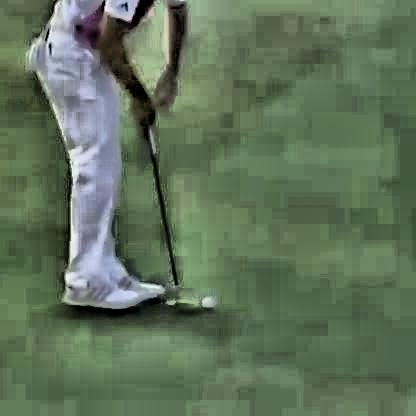golfball: (200, 291, 213, 307)
